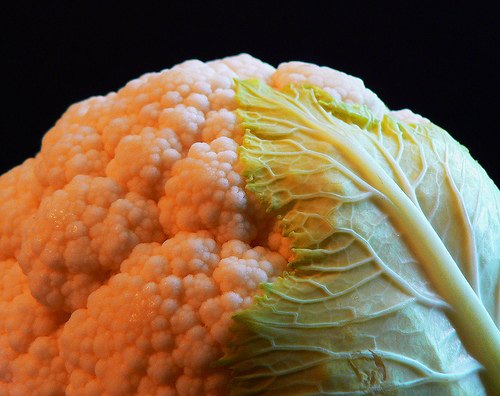cauliflower: (1, 54, 430, 395)
